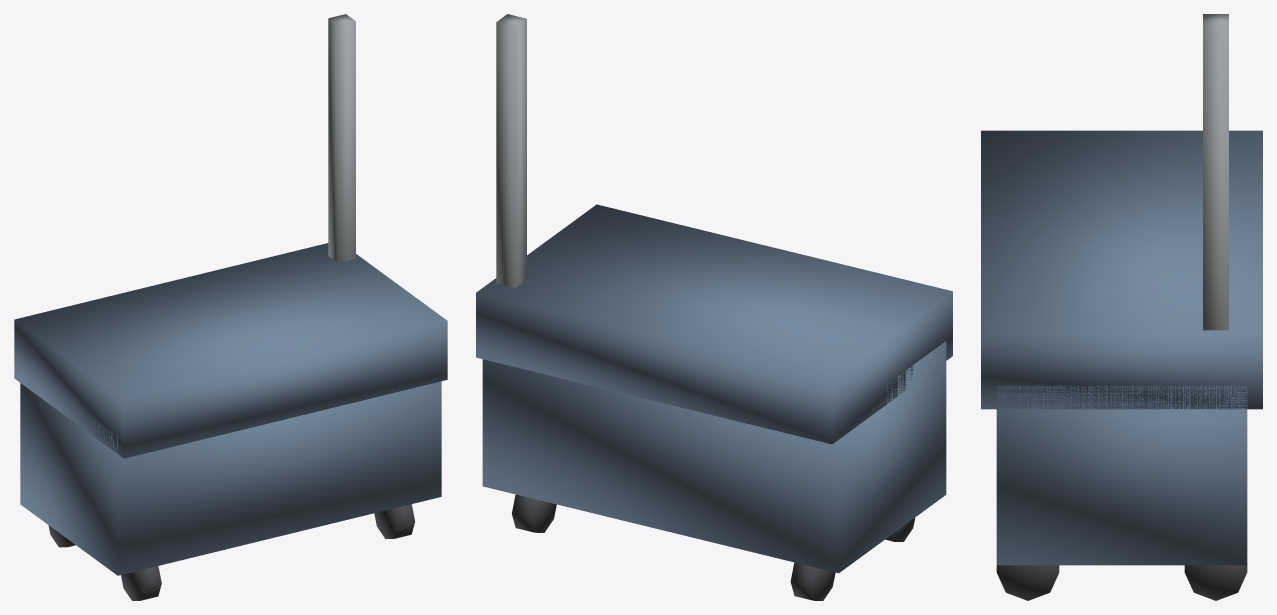
The model's file is cleaning_cart.glb.
3 views of the same model, side by side, from view 1: azimuth 30°, elevation 25°; view 2: azimuth 150°, elevation 25°; view 3: azimuth 270°, elevation 25° (orthographic). The views are drawn at different scales.
Visible parts, largest first — view 1: world; view 2: world; view 3: world.
Part boxes in pixels (left/top/right/bottom): world: left=14, top=14, right=447, bottom=600; world: left=476, top=14, right=952, bottom=600; world: left=981, top=14, right=1262, bottom=600.
Bounding box in the file's own units: 0.92 × 1.25 × 0.54.
